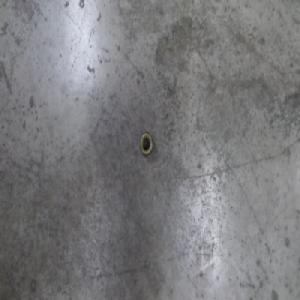Nut: (139, 129, 153, 157)
